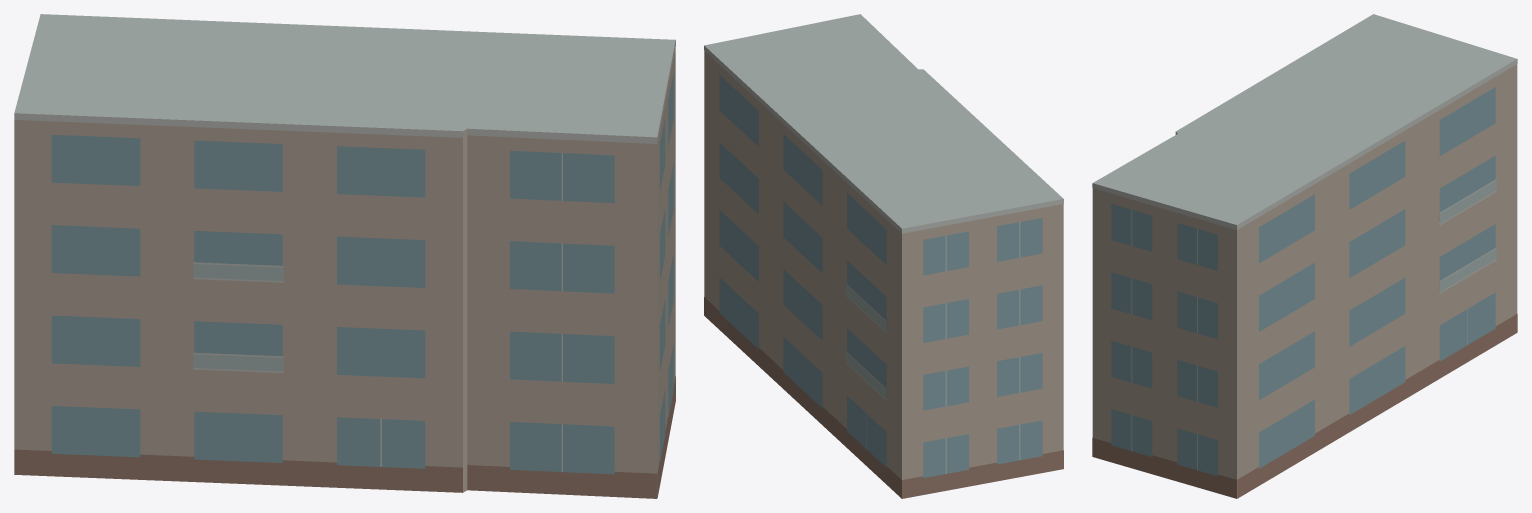
The model's file is survey-upis-32744716.glb.
3 renders of one model, left to right at view 1: azimuth 30°, elevation 25°; view 2: azimuth 150°, elevation 25°; view 3: azimuth 270°, elevation 25°, orthographic. The views are drawn at different scales.
Visible parts, largest first — view 1: survey-upis-32744716.tmp; view 2: survey-upis-32744716.tmp; view 3: survey-upis-32744716.tmp.
Part boxes in pixels (x1=…): survey-upis-32744716.tmp: x1=14, y1=14, x2=675, y2=498; survey-upis-32744716.tmp: x1=704, y1=14, x2=1063, y2=498; survey-upis-32744716.tmp: x1=1092, y1=14, x2=1517, y2=498.
Bounding box in the file's own units: 22.01 × 13.3 × 18.72.
